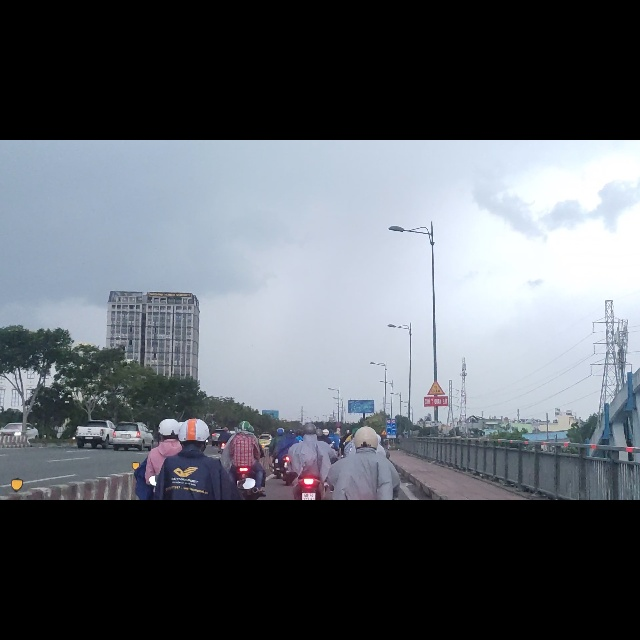bien_chi_dan: (427, 425, 445, 455), (381, 513, 387, 524)
